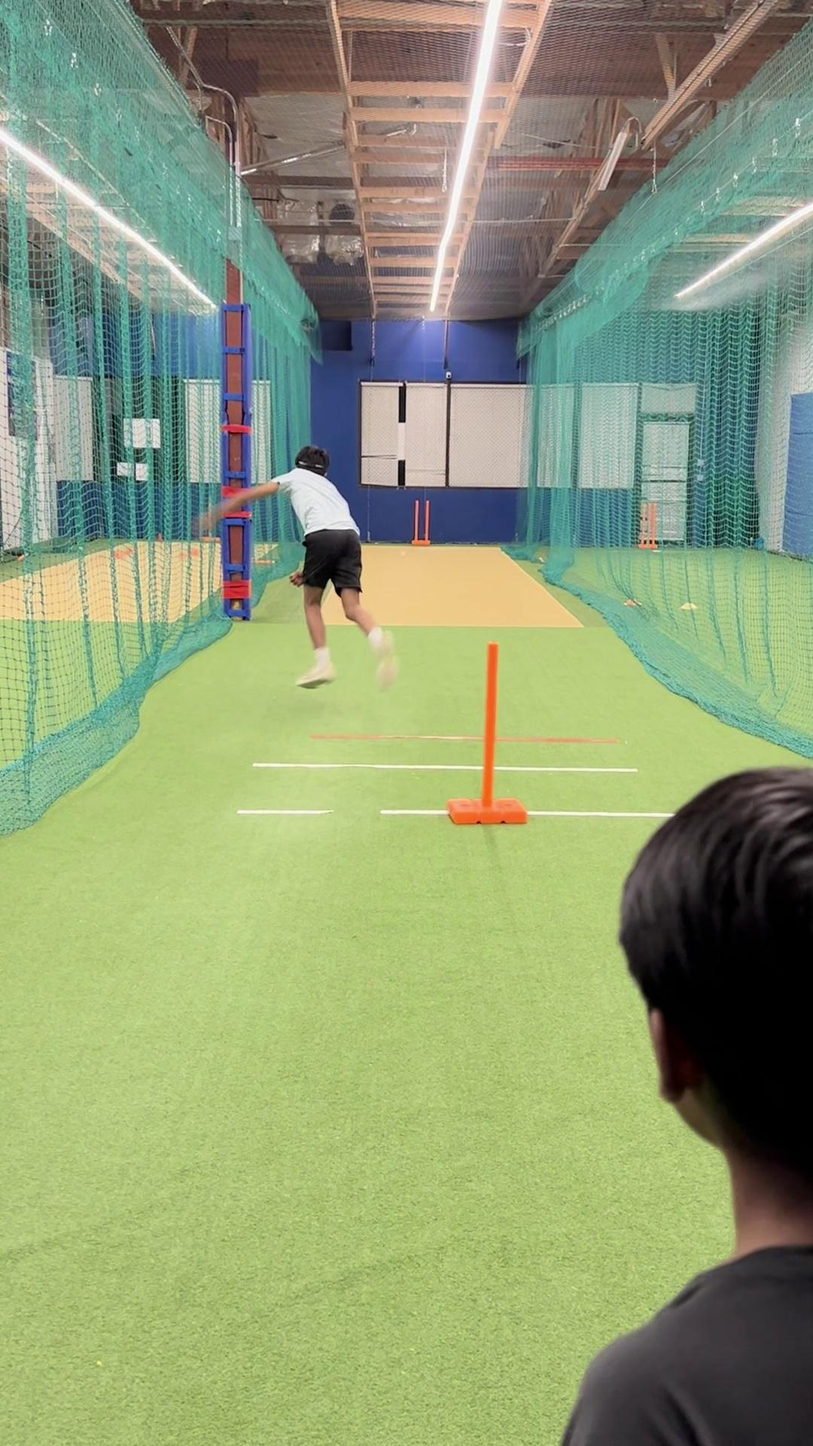ball: (397, 548, 409, 561)
